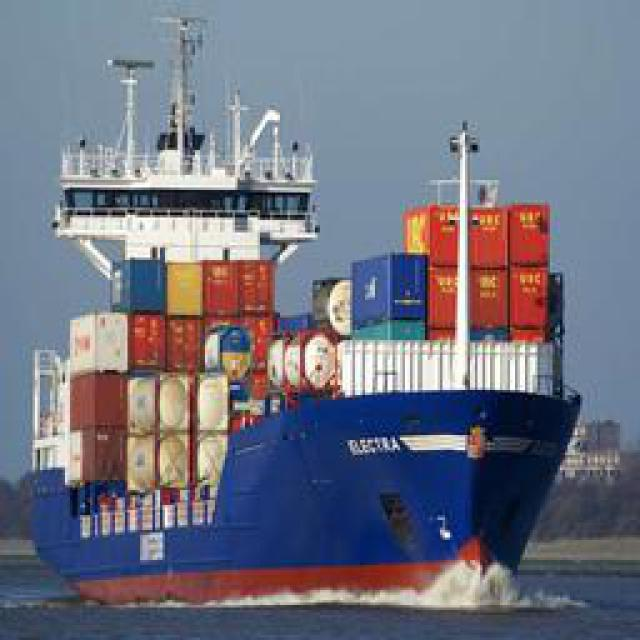Ship: (14, 7, 584, 607)
